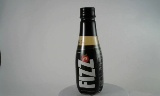appyfizz: (69, 5, 98, 95)
